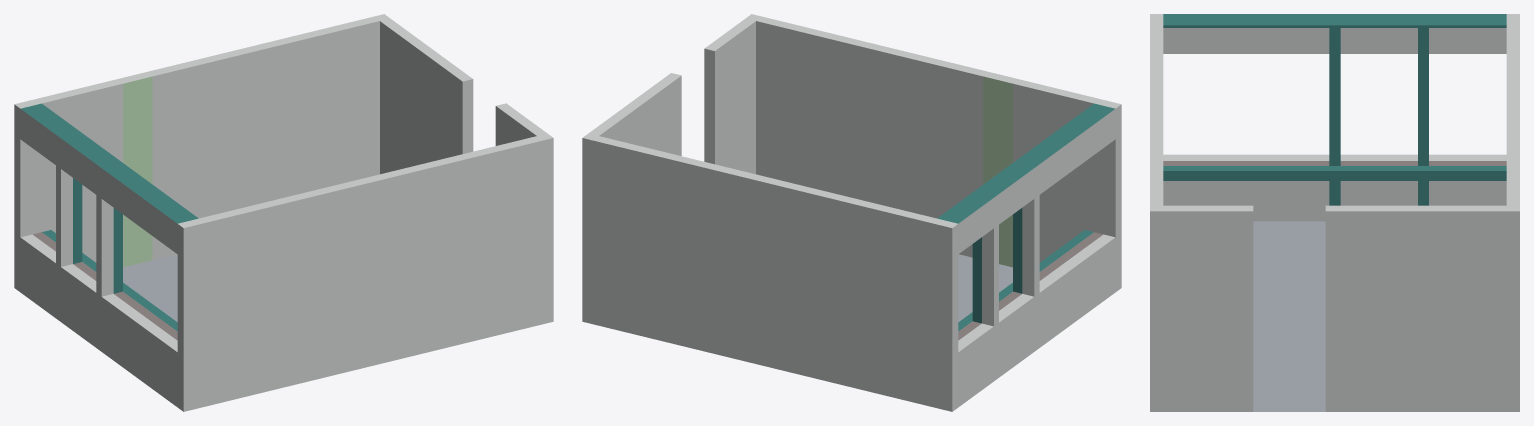
The picture shows the model from 3 angles, left to right: view 1: azimuth 30°, elevation 25°; view 2: azimuth 150°, elevation 25°; view 3: azimuth 270°, elevation 25°; orthographic projection. The views are drawn at different scales.
Visible parts, largest first — view 1: 01.006; view 2: 01.006; view 3: 01.006.
Boxes of the visible parts, x1,y1,x2,y2 form: 01.006: (14, 14, 553, 411); 01.006: (582, 14, 1121, 411); 01.006: (1150, 14, 1519, 411).
Bounding box in the file's own units: 632 × 300 × 501.
